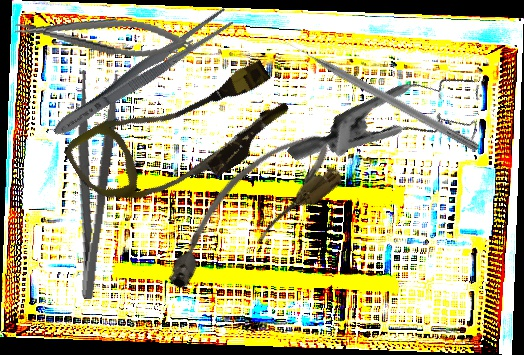Cannula: (61, 36, 300, 238), (141, 118, 353, 303)
Dressing Forceps: (47, 4, 237, 144), (56, 69, 123, 301)
Needle Holder: (13, 3, 195, 67)
Pusher: (282, 35, 482, 153)
Speculum: (286, 20, 503, 239)
